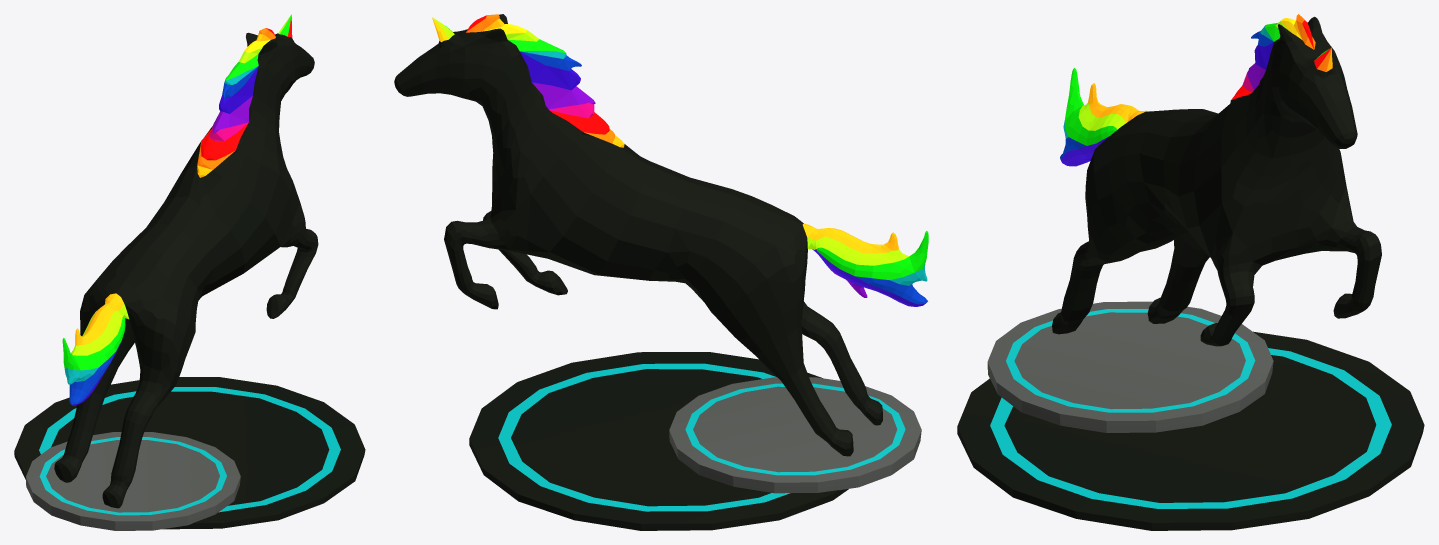
Rendered from Unicorn_Statue.glb.
The picture shows the model from 3 angles, left to right: view 1: azimuth 30°, elevation 25°; view 2: azimuth 150°, elevation 25°; view 3: azimuth 270°, elevation 25°; orthographic projection. The views are drawn at different scales.
Parts seen in each view (by area): view 1: unicorn; view 2: unicorn; view 3: unicorn.
Boxes of the visible parts, x1,y1,x2,y2 form: unicorn: [14, 14, 365, 530]; unicorn: [394, 14, 928, 530]; unicorn: [957, 14, 1424, 530].
Size of what is drawn, in the model's own units: 4.29 by 4.31 by 3.71.
Materials: 1 (1 with a texture image).
